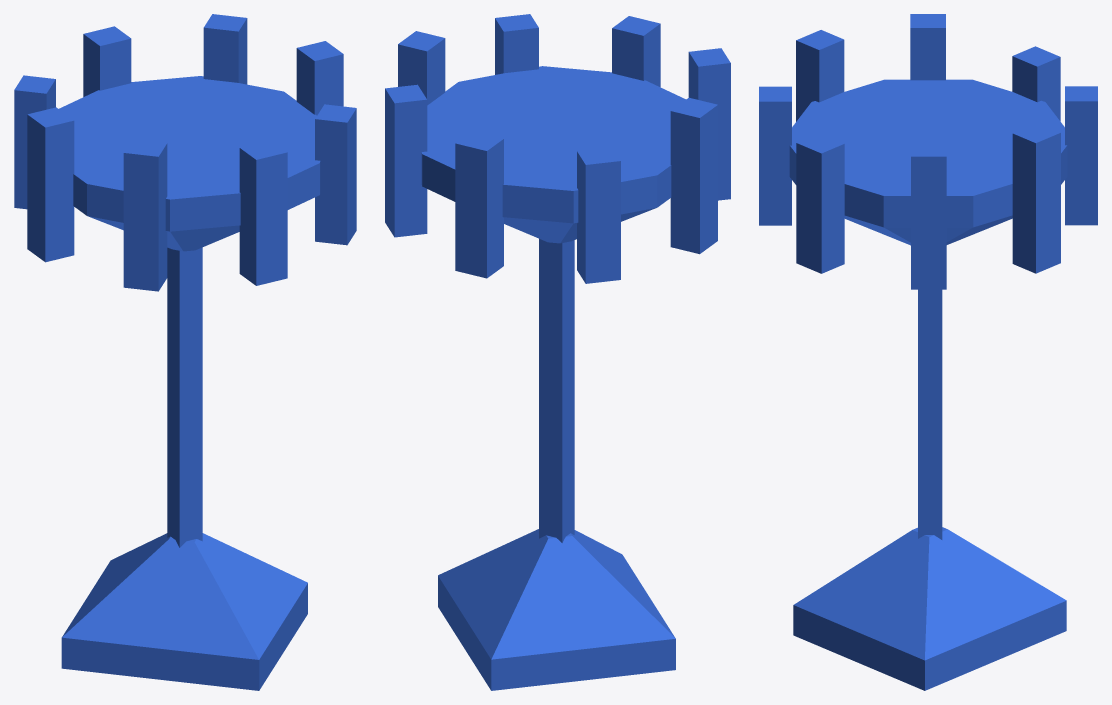
Rendered from Collision_CandleStick_Stand.fbx.
3 views of the same model, side by side, from view 1: azimuth 30°, elevation 25°; view 2: azimuth 150°, elevation 25°; view 3: azimuth 270°, elevation 25° (orthographic). The views are drawn at different scales.
Parts seen in each view (by area): view 1: UCX_CandleStick_Stand_03, UCX_CandleStick_Stand_11, UCX_CandleStick_Stand_02, UCX_CandleStick_Stand_05, UCX_CandleStick_Stand_01, UCX_CandleStick_Stand_04, UCX_CandleStick_Stand_10, UCX_CandleStick_Stand_09, UCX_CandleStick_Stand_08, UCX_CandleStick_Stand_07, UCX_CandleStick_Stand_06; view 2: UCX_CandleStick_Stand_11, UCX_CandleStick_Stand_03, UCX_CandleStick_Stand_02, UCX_CandleStick_Stand_05, UCX_CandleStick_Stand_07, UCX_CandleStick_Stand_08, UCX_CandleStick_Stand_06, UCX_CandleStick_Stand_04, UCX_CandleStick_Stand_01, UCX_CandleStick_Stand_09, UCX_CandleStick_Stand_10; view 3: UCX_CandleStick_Stand_03, UCX_CandleStick_Stand_11, UCX_CandleStick_Stand_08, UCX_CandleStick_Stand_10, UCX_CandleStick_Stand_02, UCX_CandleStick_Stand_09, UCX_CandleStick_Stand_01, UCX_CandleStick_Stand_07, UCX_CandleStick_Stand_04, UCX_CandleStick_Stand_06, UCX_CandleStick_Stand_05.
Part boxes in pixels (left/top/right/bottom): UCX_CandleStick_Stand_03: left=61, top=533, right=307, bottom=690; UCX_CandleStick_Stand_11: left=59, top=76, right=320, bottom=251; UCX_CandleStick_Stand_02: left=167, top=247, right=202, bottom=547; UCX_CandleStick_Stand_05: left=27, top=107, right=74, bottom=262; UCX_CandleStick_Stand_01: left=239, top=140, right=287, bottom=285; UCX_CandleStick_Stand_04: left=123, top=139, right=167, bottom=291; UCX_CandleStick_Stand_10: left=315, top=104, right=356, bottom=245; UCX_CandleStick_Stand_09: left=296, top=41, right=343, bottom=115; UCX_CandleStick_Stand_08: left=203, top=14, right=247, bottom=84; UCX_CandleStick_Stand_07: left=83, top=26, right=131, bottom=96; UCX_CandleStick_Stand_06: left=14, top=75, right=55, bottom=209; UCX_CandleStick_Stand_11: left=421, top=66, right=685, bottom=243; UCX_CandleStick_Stand_03: left=438, top=529, right=675, bottom=690; UCX_CandleStick_Stand_02: left=539, top=238, right=574, bottom=542; UCX_CandleStick_Stand_05: left=670, top=97, right=717, bottom=254; UCX_CandleStick_Stand_07: left=455, top=131, right=503, bottom=278; UCX_CandleStick_Stand_08: left=385, top=84, right=427, bottom=237; UCX_CandleStick_Stand_06: left=577, top=147, right=620, bottom=283; UCX_CandleStick_Stand_04: left=688, top=48, right=730, bottom=200; UCX_CandleStick_Stand_01: left=612, top=16, right=660, bottom=87; UCX_CandleStick_Stand_09: left=398, top=31, right=445, bottom=105; UCX_CandleStick_Stand_10: left=495, top=14, right=538, bottom=74; UCX_CandleStick_Stand_03: left=793, top=527, right=1066, bottom=690; UCX_CandleStick_Stand_11: left=789, top=79, right=1067, bottom=245; UCX_CandleStick_Stand_08: left=1012, top=123, right=1060, bottom=273; UCX_CandleStick_Stand_10: left=796, top=133, right=844, bottom=273; UCX_CandleStick_Stand_02: left=918, top=289, right=942, bottom=539; UCX_CandleStick_Stand_09: left=911, top=143, right=946, bottom=289; UCX_CandleStick_Stand_01: left=759, top=86, right=791, bottom=225; UCX_CandleStick_Stand_07: left=1065, top=86, right=1097, bottom=225; UCX_CandleStick_Stand_04: left=796, top=30, right=844, bottom=121; UCX_CandleStick_Stand_06: left=1012, top=46, right=1060, bottom=121; UCX_CandleStick_Stand_05: left=910, top=14, right=945, bottom=80.
Size of the model in its own units: 72.48 by 129 by 72.48.
